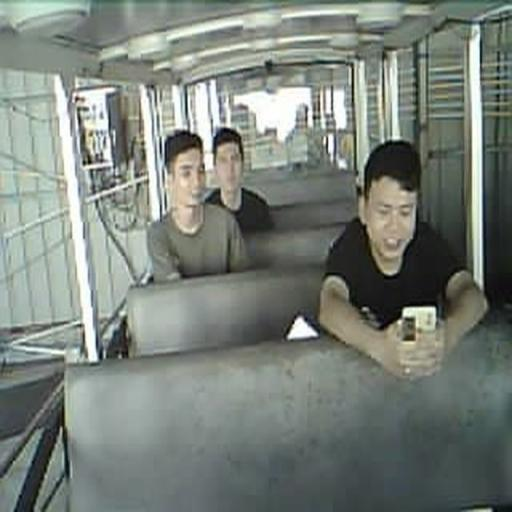persona: (317, 139, 489, 382), (146, 129, 248, 283), (204, 127, 274, 234)
